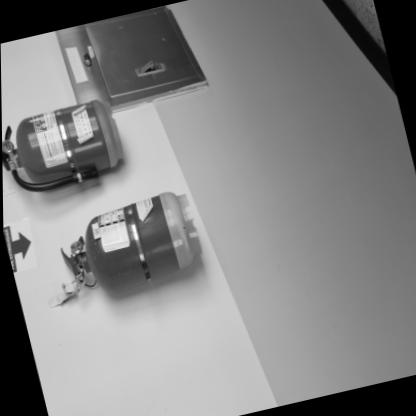FE: (51, 186, 207, 305), (1, 93, 129, 202)
